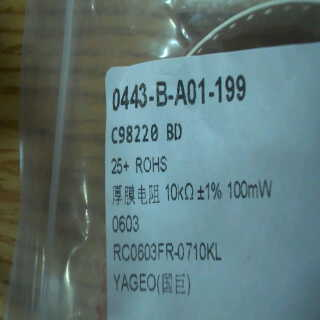10kR: (163, 178, 194, 205)
